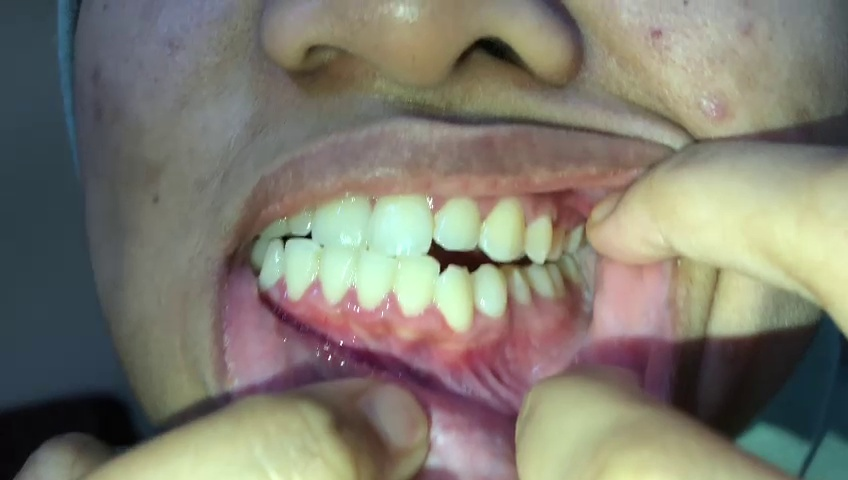1st Molar: (525, 262, 555, 299), (566, 217, 589, 255)
1st Premolar: (471, 263, 510, 319), (527, 214, 553, 266)
2nd Molar: (547, 263, 566, 298)
2nd Premolar: (501, 261, 531, 307), (549, 223, 567, 262)
3rd Molar: (559, 256, 583, 290)
Canine: (479, 193, 526, 263), (435, 262, 473, 333), (260, 239, 284, 295)
Central Incisor: (370, 193, 433, 259), (311, 182, 370, 250), (318, 244, 357, 308), (356, 248, 391, 313)
Lateral Incisor: (389, 255, 437, 319), (433, 196, 478, 251), (284, 238, 319, 305)
